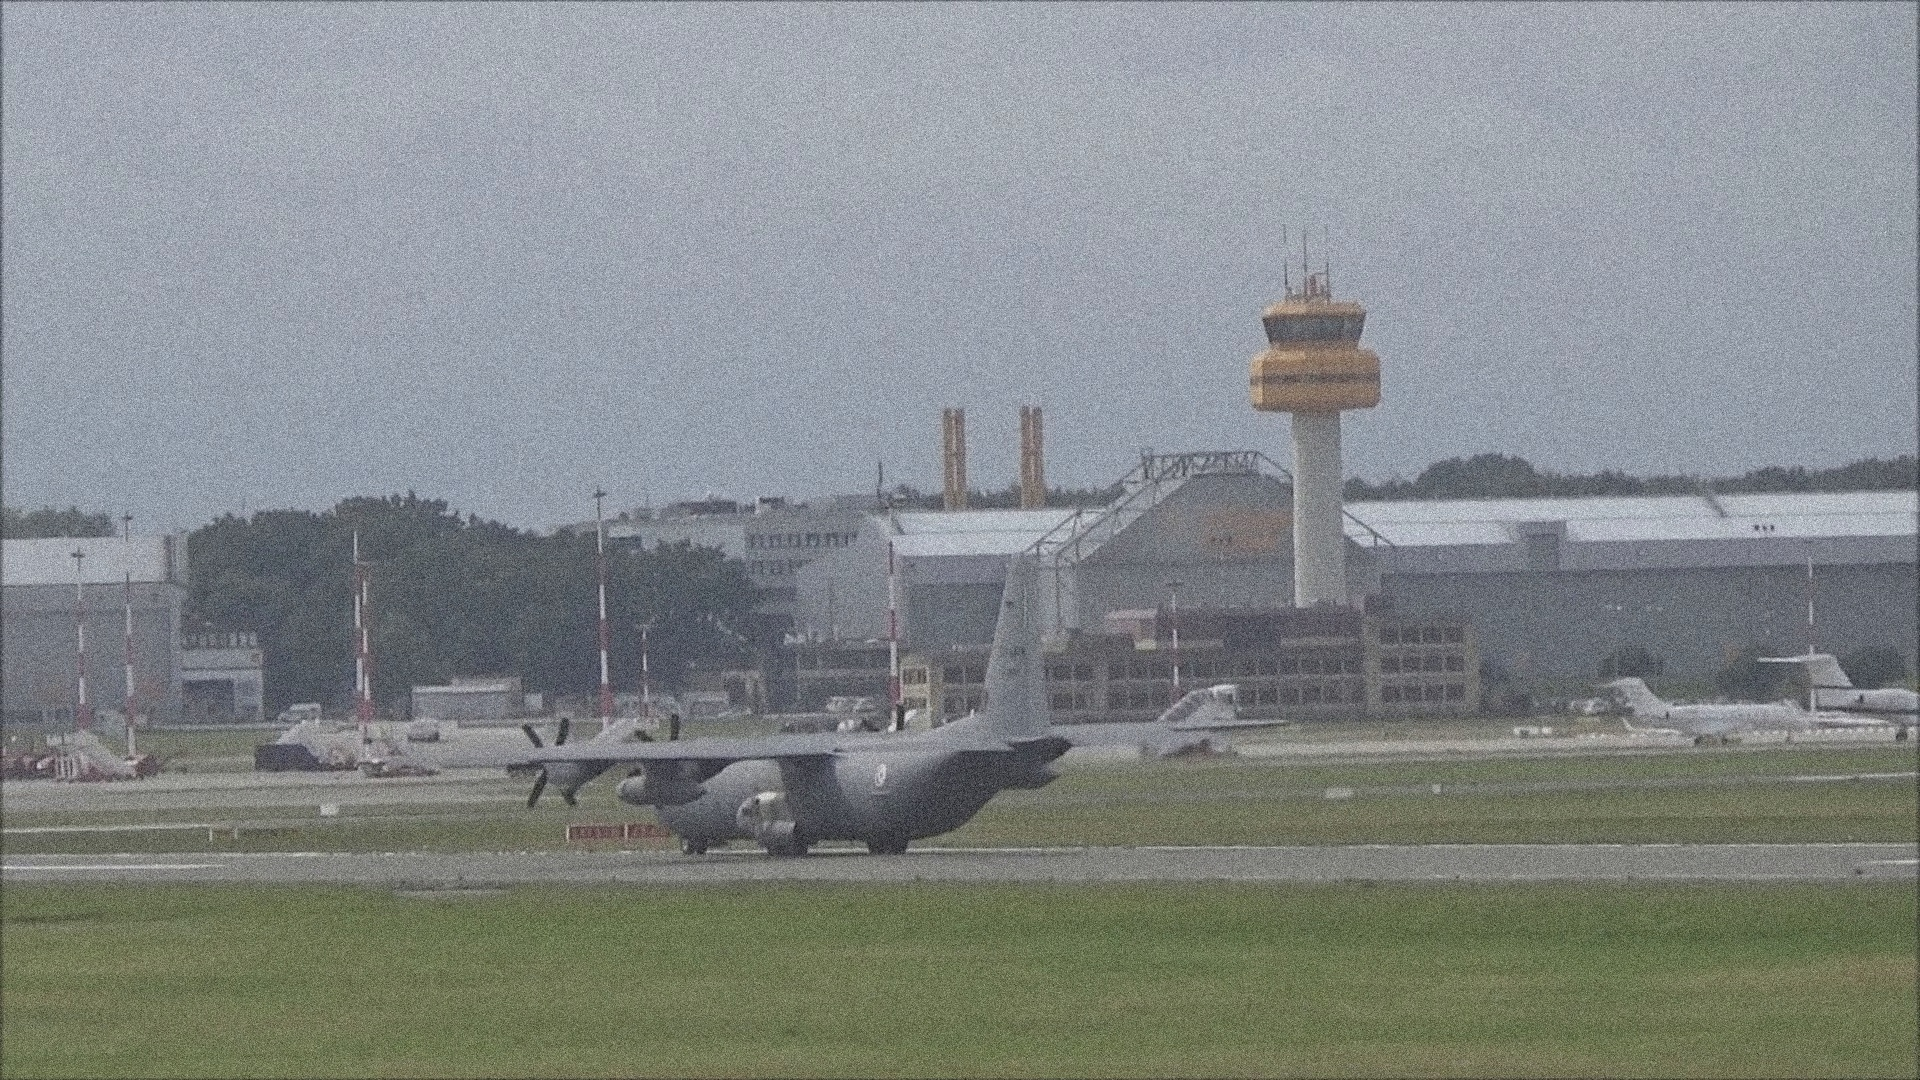Airplane: (439, 549, 1291, 848)
